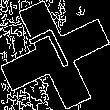L_SE: (30, 26, 80, 84)
